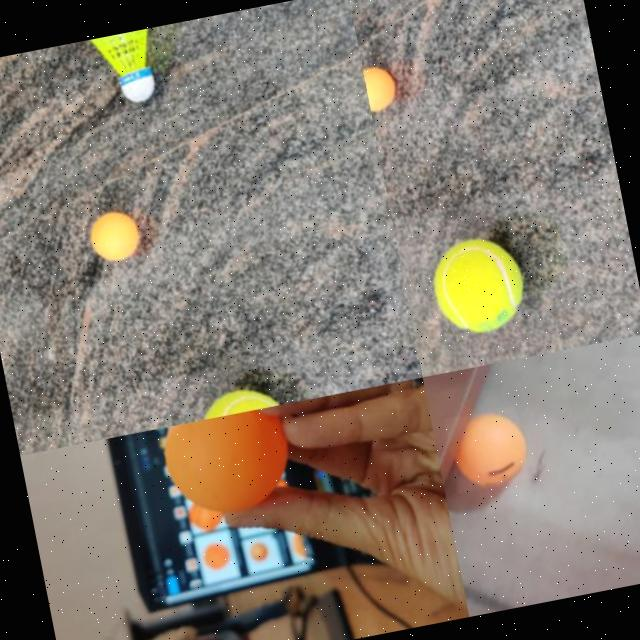ping-pong-ball: (158, 404, 298, 524), (444, 404, 531, 494), (85, 206, 144, 264), (362, 61, 400, 112)
